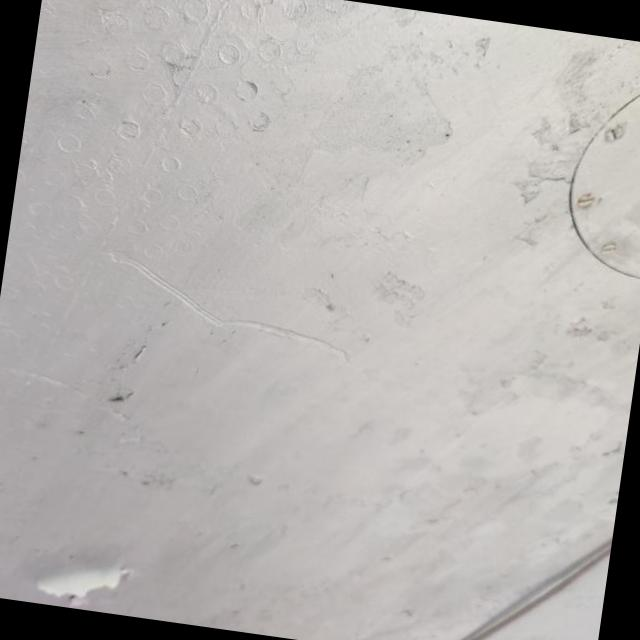Paint-off: (36, 567, 127, 600)
Scratch: (108, 253, 348, 361)
